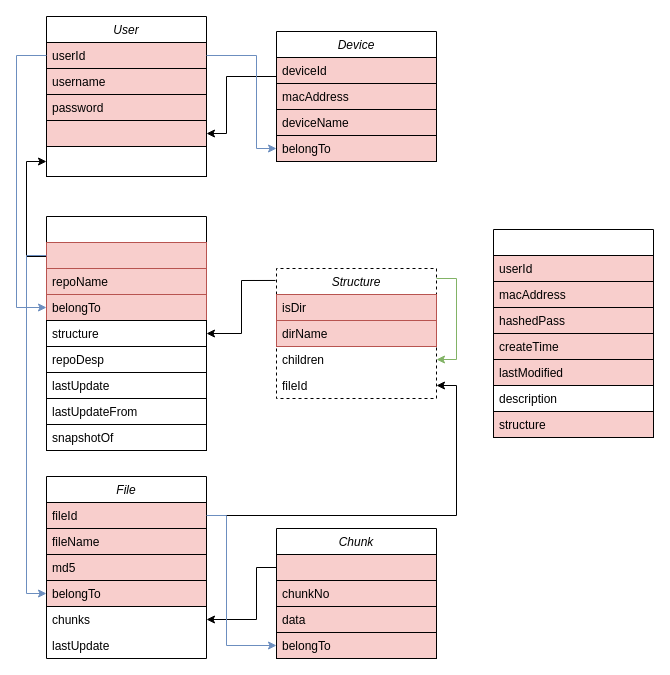
Image size: 670x675. Some labels were removed from this diagram. Here are the shapes that lost their labels. From the top down, the box of each, then its label:
(46, 120, 206, 146): devices
(46, 146, 206, 176): repositories
(46, 242, 206, 268): repoId
(46, 216, 206, 450): Repository
(492, 228, 654, 438): .aero/config.yaml
(276, 554, 436, 580): chunkId
